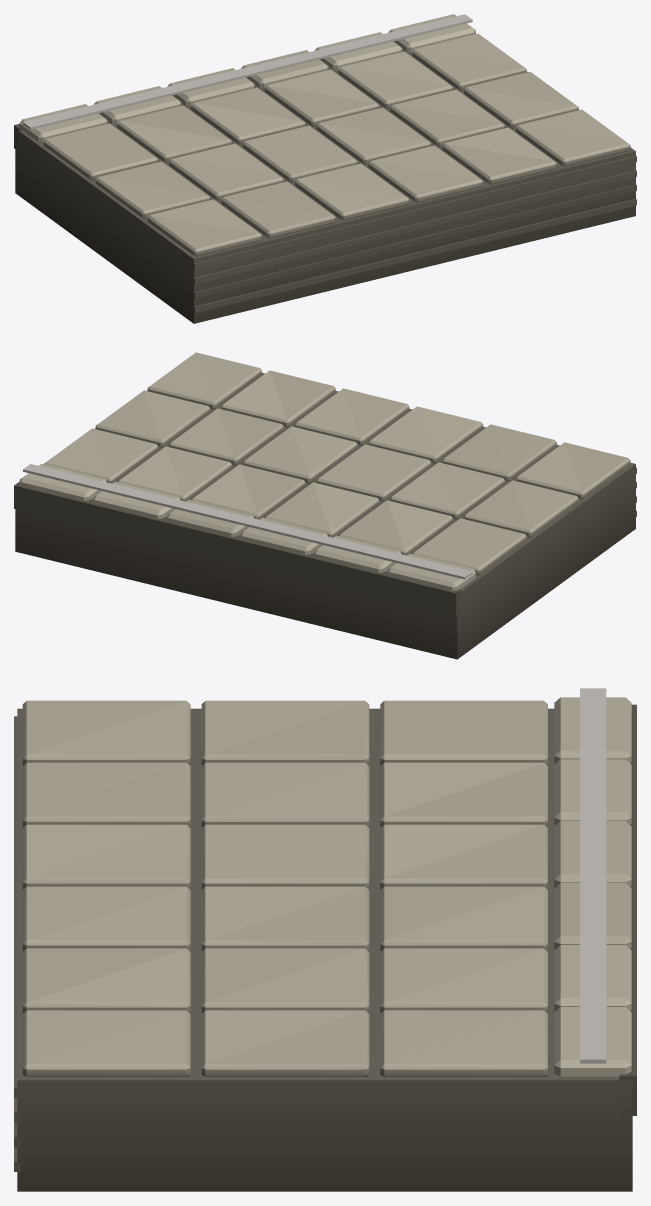
File: platform-edge-module.glb
3 views of the same model, one above another, from view 1: azimuth 30°, elevation 25°; view 2: azimuth 150°, elevation 25°; view 3: azimuth 270°, elevation 25° (orthographic). The views are drawn at different scales.
Visible parts, largest first — view 1: platform_edge_module; view 2: platform_edge_module; view 3: platform_edge_module.
Boxes of the visible parts, <box> form: platform_edge_module: <box>14,14,636,323</box>; platform_edge_module: <box>14,352,636,659</box>; platform_edge_module: <box>14,688,636,1191</box>.
Bounding box in the file's own units: 4 × 0.6629 × 2.83.
